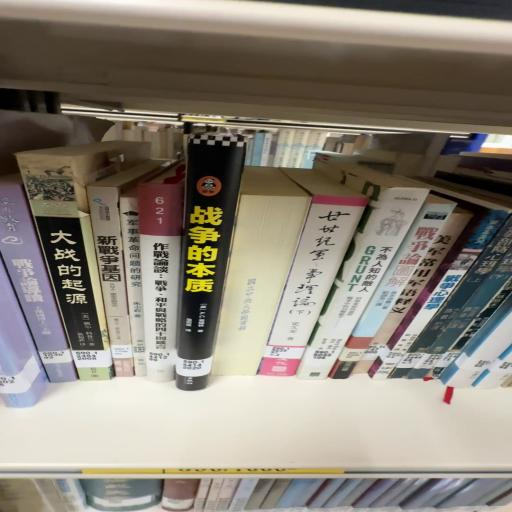backward: (213, 167, 311, 376)
book: (12, 141, 144, 381), (182, 134, 252, 388), (1, 184, 75, 390), (92, 191, 140, 384)
